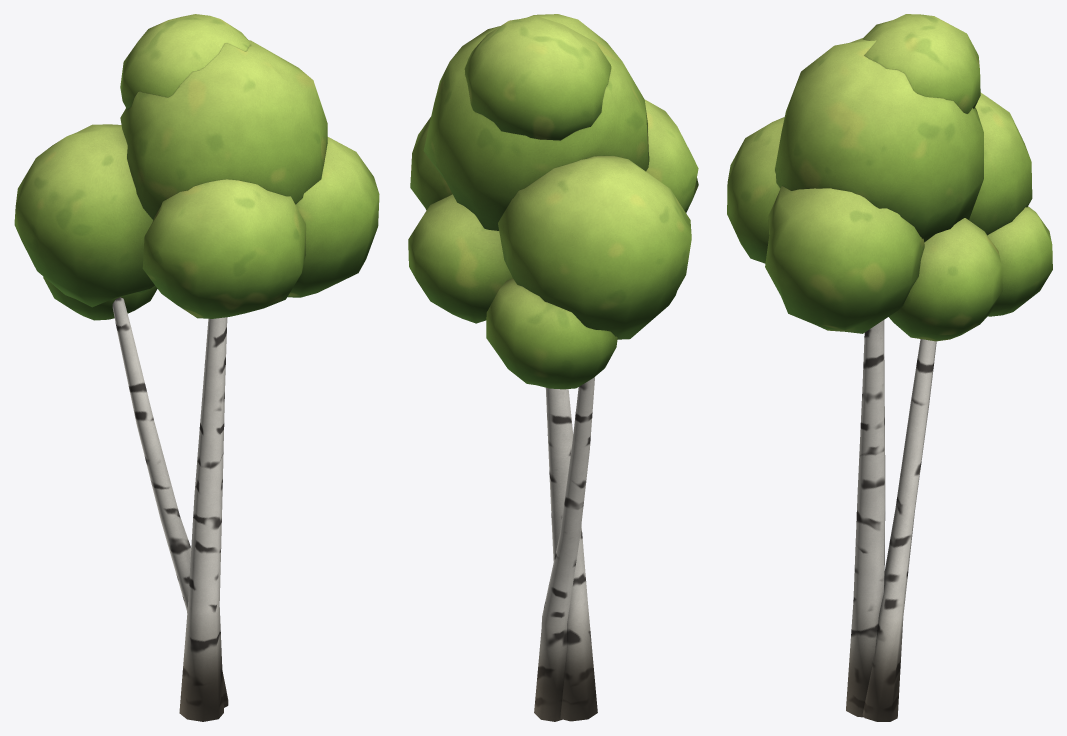
File: Abedul.fbx
3 views of the same model, side by side, from view 1: azimuth 30°, elevation 25°; view 2: azimuth 150°, elevation 25°; view 3: azimuth 270°, elevation 25° (orthographic). The views are drawn at different scales.
Parts seen in each view (by area): view 1: Malla; view 2: Malla; view 3: Malla.
Part boxes in pixels (bbox=[...]): Malla: bbox=[14, 14, 379, 721]; Malla: bbox=[408, 14, 698, 721]; Malla: bbox=[727, 14, 1052, 721].
Bounding box in the file's own units: 4.7 × 10.07 × 4.28.
Materials: 1 (1 with a texture image).
